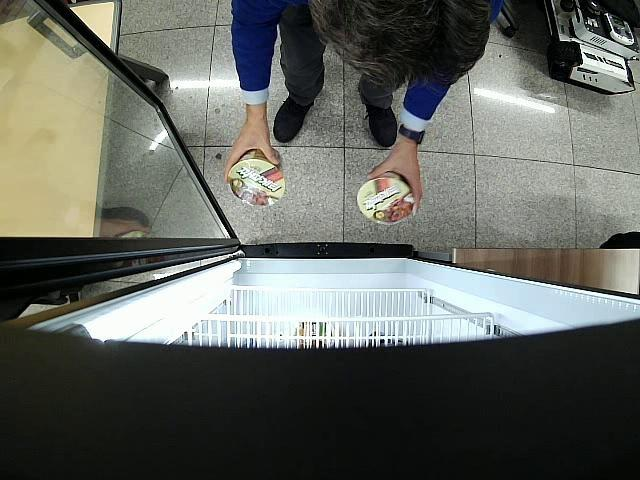03_chapagetti_L: (228, 148, 285, 210), (356, 172, 416, 225)
